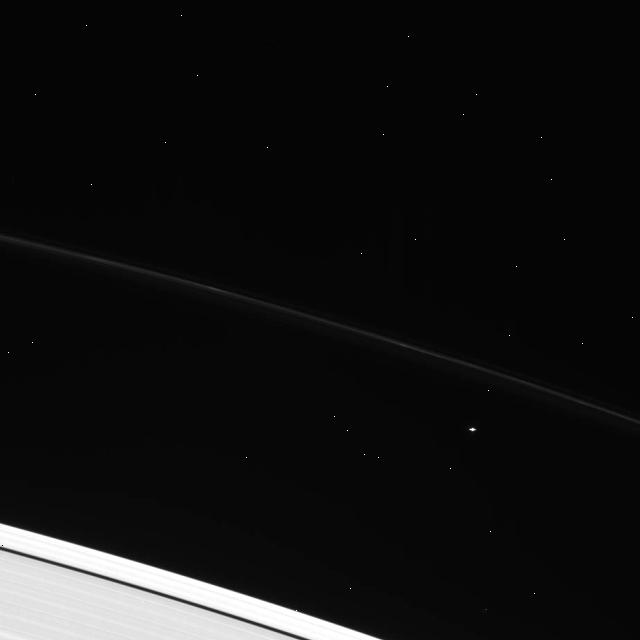Saturn: (0, 505, 559, 640)
